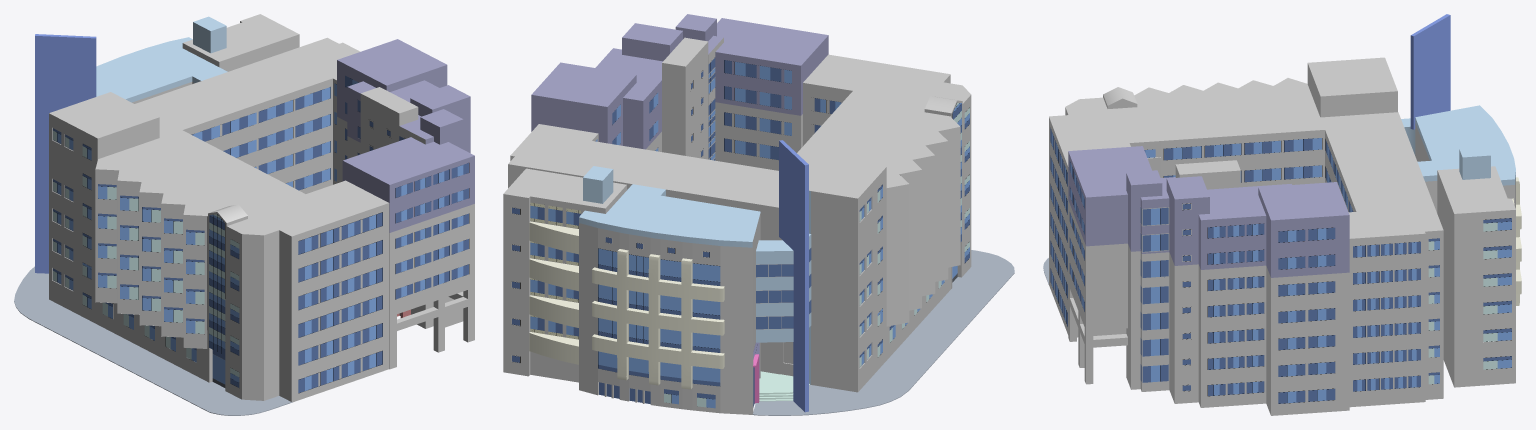
3 renders of one model, left to right at view 1: azimuth 30°, elevation 25°; view 2: azimuth 150°, elevation 25°; view 3: azimuth 270°, elevation 25°, orthographic. The views are drawn at different scales.
Parts seen in each view (by area): view 1: bh_105, bh_34, bh_25, bh_103, bh_39, bh_50, bh_109, bh_06, bh_69, bh_72, bh_89, bh_28 (+28 smaller); view 2: bh_105, bh_21, bh_45, bh_64, bh_103, bh_36, bh_69, bh_72, bh_50, bh_86, bh_17, bh_67 (+31 smaller); view 3: bh_105, bh_37, bh_11, bh_41, bh_72, bh_29, bh_69, bh_10, bh_66, bh_35, bh_28, bh_61 (+25 smaller).
Boxes of the visible parts, bbox=[...] form: bh_105: bbox=[95, 37, 388, 401]; bh_34: bbox=[291, 203, 389, 402]; bh_25: bbox=[389, 155, 474, 316]; bh_103: bbox=[14, 266, 292, 415]; bh_39: bbox=[298, 212, 382, 393]; bh_50: bbox=[35, 34, 96, 273]; bh_109: bbox=[183, 78, 332, 193]; bh_06: bbox=[49, 113, 82, 316]; bh_69: bbox=[96, 37, 227, 103]; bh_72: bbox=[342, 137, 474, 316]; bh_89: bbox=[191, 87, 330, 190]; bh_28: bbox=[49, 92, 159, 318]; bh_105: bbox=[508, 54, 970, 374]; bh_21: bbox=[579, 223, 752, 414]; bh_45: bbox=[780, 190, 857, 392]; bh_64: bbox=[592, 249, 724, 389]; bh_103: bbox=[752, 250, 1014, 415]; bh_36: bbox=[598, 248, 720, 386]; bh_69: bbox=[579, 184, 760, 247]; bh_72: bbox=[708, 18, 828, 161]; bh_50: bbox=[779, 140, 808, 412]; bh_86: bbox=[531, 62, 636, 143]; bh_17: bbox=[529, 221, 578, 364]; bh_67: bbox=[503, 194, 528, 376]; bh_105: bbox=[1049, 78, 1443, 337]; bh_37: bbox=[1271, 215, 1349, 415]; bh_11: bbox=[1349, 233, 1425, 407]; bh_41: bbox=[1201, 216, 1266, 407]; bh_72: bbox=[1068, 146, 1151, 330]; bh_29: bbox=[1454, 210, 1511, 387]; bh_69: bbox=[1415, 105, 1515, 212]; bh_10: bbox=[1437, 166, 1515, 386]; bh_66: bbox=[1278, 227, 1335, 403]; bh_35: bbox=[1174, 197, 1198, 403]; bh_28: bbox=[1307, 57, 1397, 117]; bh_61: bbox=[1353, 241, 1420, 391].
Size of the model in its own units: 5.97 by 3.61 by 6.48.
